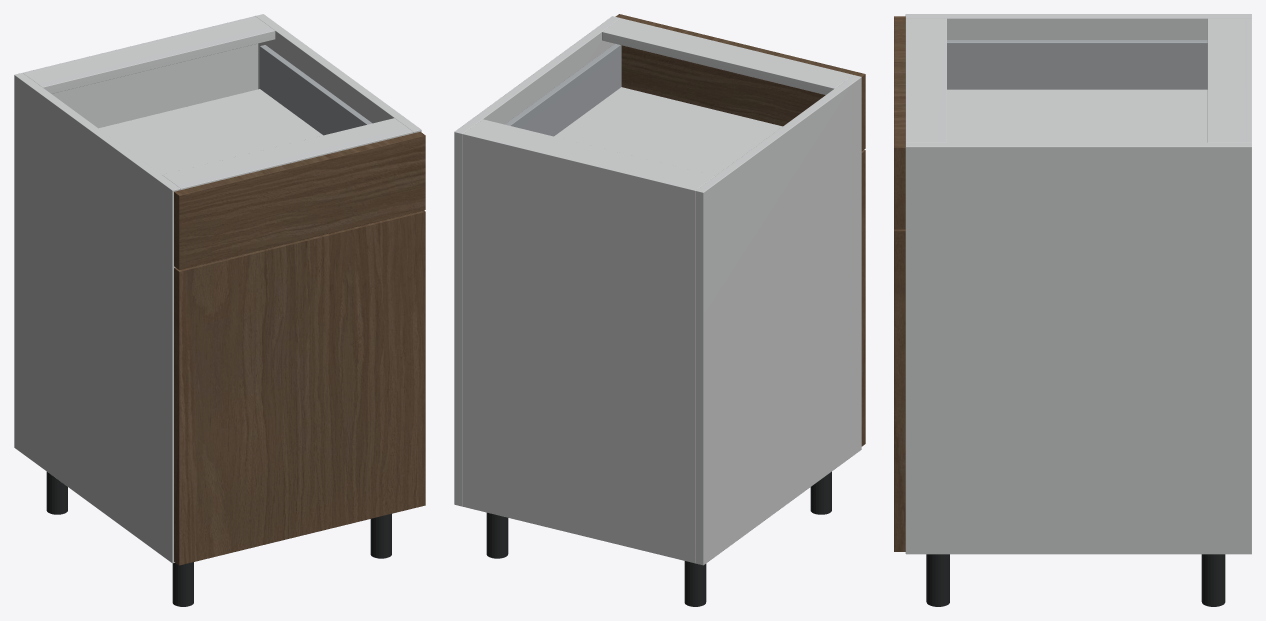
Rendered from oppein-ply-mso-b21.glb.
The picture shows the model from 3 angles, left to right: view 1: azimuth 30°, elevation 25°; view 2: azimuth 150°, elevation 25°; view 3: azimuth 270°, elevation 25°; orthographic projection. The views are drawn at different scales.
Parts seen in each view (by area): view 1: Door, Cabinet side, Drawer front, Drawer floor, Cabinet back, Top support rail, Top support rail.001, Drawer side.001, Cabinet side.001, Adjustable foot.001, Adjustable foot.003, Adjustable foot; view 2: Cabinet back, Cabinet side, Drawer floor, Drawer front, Cabinet side.001, Top support rail.001, Drawer side.001, Top support rail, Door, Adjustable foot, Adjustable foot.002, Adjustable foot.001; view 3: Cabinet side.001, Drawer floor, Drawer side, Cabinet side, Top support rail.001, Top support rail, Door, Drawer front, Adjustable foot.002, Adjustable foot.003, Cabinet back.
Part boxes in pixels (box(x1,y1,x2,y2)): Door: box(174, 210, 425, 565); Cabinet side: box(14, 73, 180, 563); Drawer front: box(174, 131, 425, 269); Drawer floor: box(99, 89, 322, 174); Cabinet back: box(23, 16, 258, 128); Top support rail: box(24, 18, 275, 93); Top support rail.001: box(162, 118, 413, 189); Drawer side.001: box(260, 45, 372, 135); Cabinet side.001: box(255, 14, 421, 133); Adjustable foot.001: box(172, 562, 193, 606); Adjustable foot.003: box(370, 514, 391, 558); Adjustable foot: box(46, 472, 67, 514); Cabinet back: box(462, 132, 697, 563); Cabinet side: box(695, 75, 861, 565); Drawer floor: box(554, 87, 782, 175); Drawer front: box(615, 14, 865, 150); Cabinet side.001: box(454, 16, 620, 506); Top support rail.001: box(602, 18, 852, 94); Drawer side.001: box(505, 43, 621, 136); Top support rail: box(466, 119, 714, 188); Door: box(861, 150, 865, 446); Adjustable foot: box(684, 561, 706, 606); Adjustable foot.002: box(486, 512, 508, 558); Adjustable foot.001: box(810, 471, 831, 514); Cabinet side.001: box(905, 142, 1251, 554); Drawer floor: box(947, 89, 1207, 142); Drawer side: box(947, 40, 1207, 89); Cabinet side: box(905, 14, 1251, 39); Top support rail.001: box(905, 18, 946, 142); Top support rail: box(1207, 18, 1245, 142); Door: box(894, 229, 905, 551); Drawer front: box(894, 16, 905, 229); Adjustable foot.002: box(1201, 554, 1225, 606); Adjustable foot.003: box(926, 554, 949, 606); Cabinet back: box(1245, 18, 1251, 142).
Bounding box in the file's own units: 0.5334 × 0.8763 × 0.6064.
4 materials, 1 textured.
